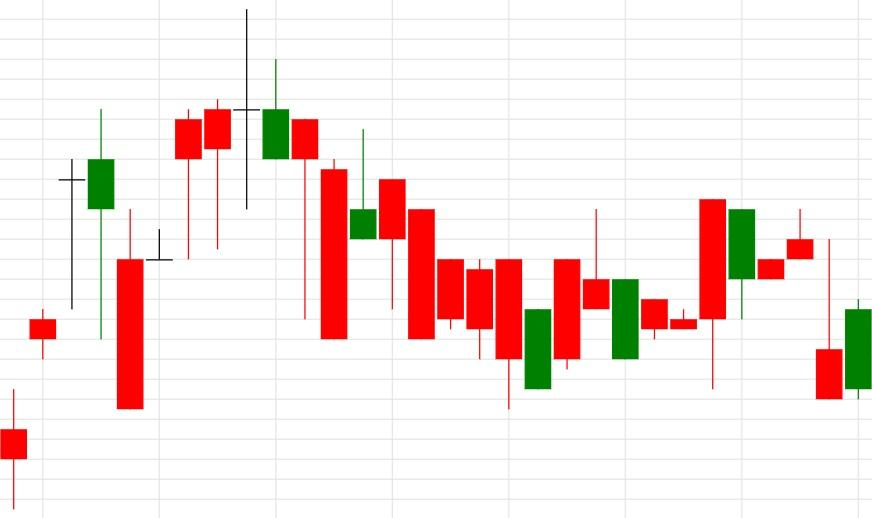evening_star_fall: (115, 9, 290, 410)
inverse_hammer_rise: (699, 197, 843, 400)
